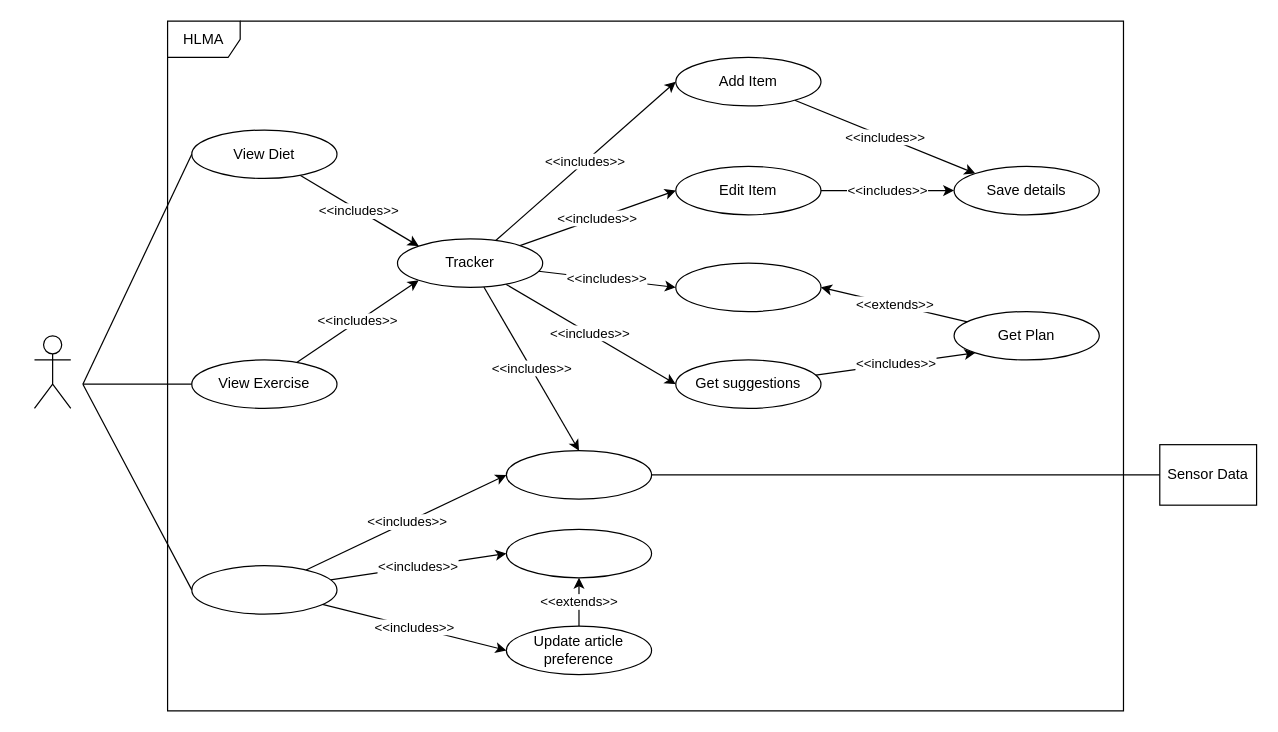
Image size: 1278x732. Some labels were removed from this diagram. Each missing label, with the centre of its shape:
Get articles: the point at 578,553
Logged In User: the point at 52,371
Sensor: the point at 578,474
Set Goals: the point at 748,287
View Wellbeing: the point at 264,589
